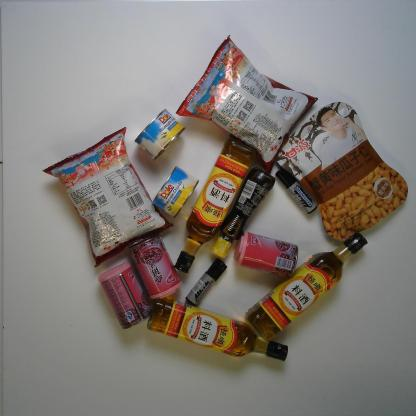Canned Food: (94, 265, 152, 332), (233, 231, 300, 275), (138, 238, 183, 303), (154, 169, 200, 218), (139, 108, 185, 155)
Dried Fruit: (279, 88, 407, 249)
Puffed Food: (40, 127, 173, 267), (180, 43, 310, 157)
Seasoner: (249, 235, 371, 347), (177, 131, 258, 274), (147, 301, 300, 366), (213, 170, 276, 262)
Stationery: (273, 162, 322, 219), (178, 261, 233, 308)
